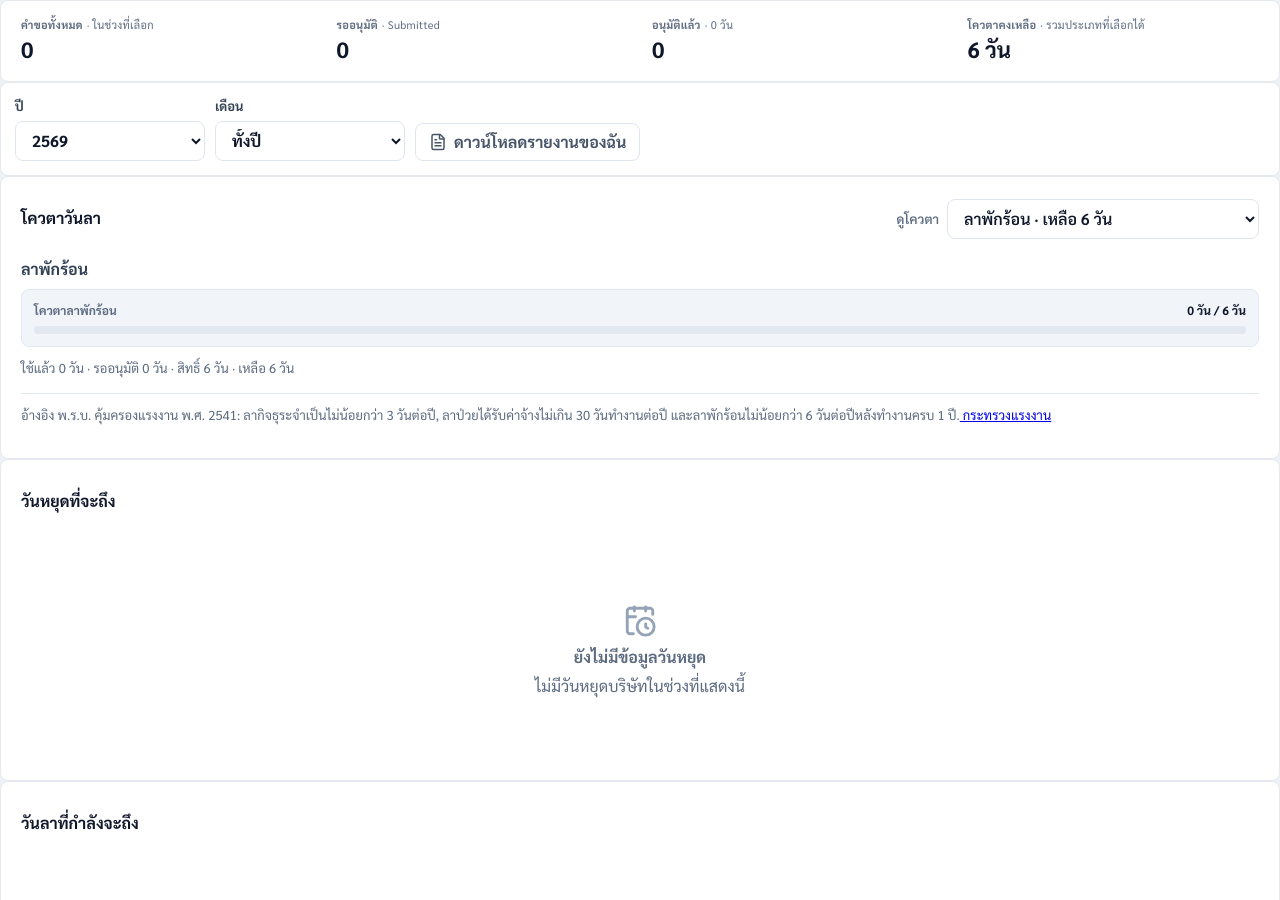
Test: MyLeaveTab balances: one primary card + a single disclosure (owner feedback, 2026-08) › MILITARY: the 366-day sentinel never renders as a quota or remaining figure, including once it becomes the primary card
Check: the element with test id "primary-balance-card" shows "ลาพักร้อน", box [21,258,88,279]
Select "ลารับราชการทหาร" in the dropdown named "ประเภทการลา": point(1103, 219) [947,199,1259,239]
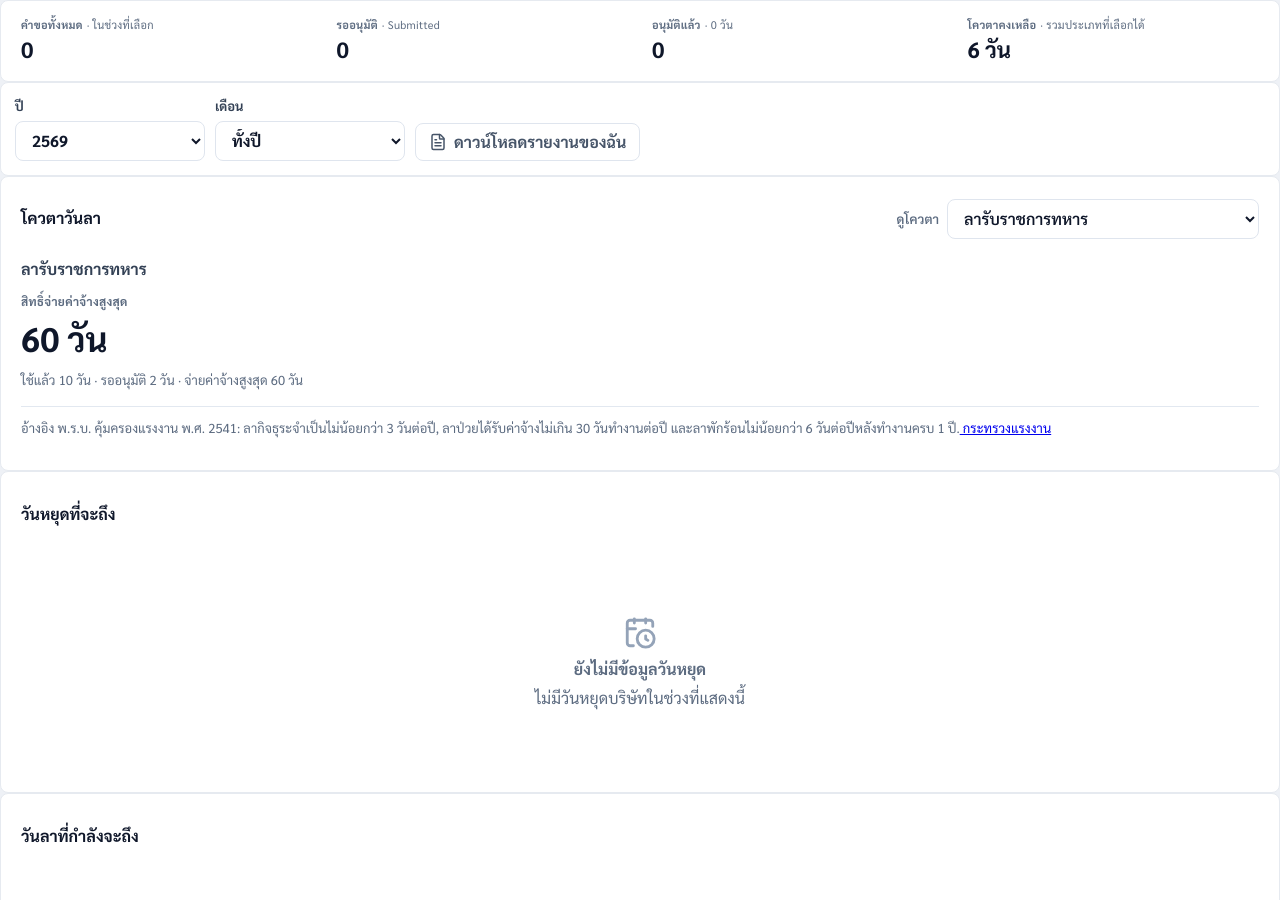
Check: the element with test id "primary-balance-card" shows "ลารับราชการทหาร", box [21,258,147,279]
